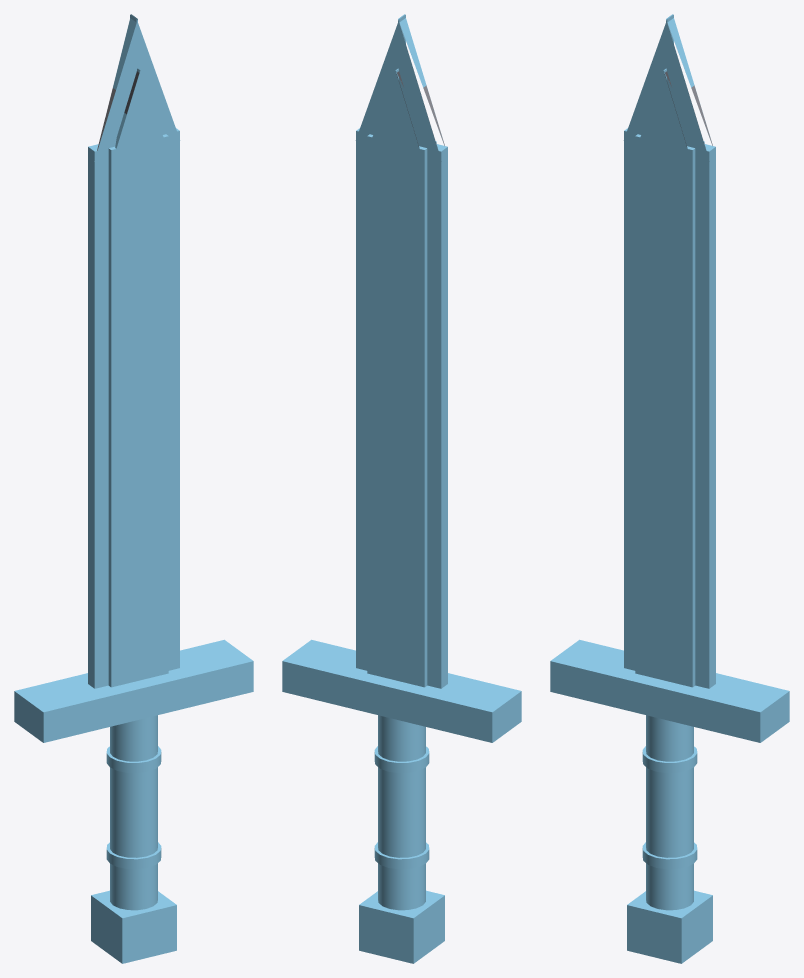
3 views of the same model, side by side, from view 1: azimuth 30°, elevation 25°; view 2: azimuth 150°, elevation 25°; view 3: azimuth 330°, elevation 25° (orthographic).
Parts seen in each view (by area): view 1: rank-mage-b; view 2: rank-mage-b; view 3: rank-mage-b.
Boxes of the visible parts, left/top/right/bottom form: rank-mage-b: left=14, top=14, right=253, bottom=963; rank-mage-b: left=282, top=14, right=521, bottom=963; rank-mage-b: left=550, top=14, right=789, bottom=963.
Size of the model in its own units: 0.2024 by 0.8551 by 0.0526.
